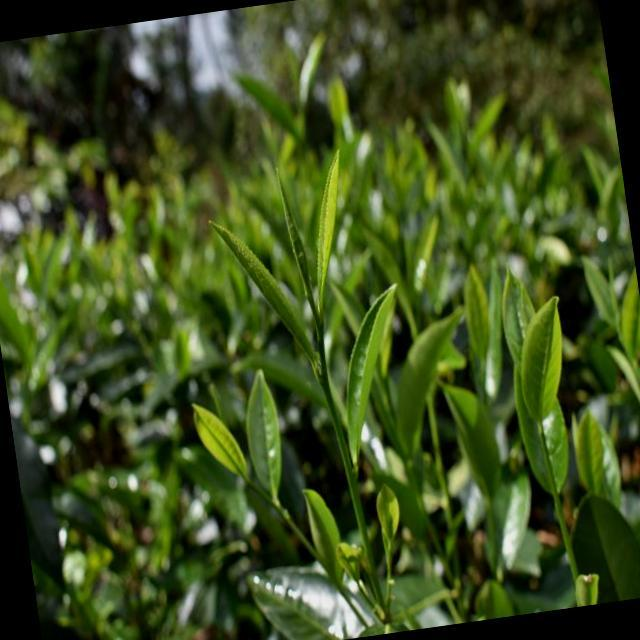Stem: (279, 506, 286, 516), (319, 376, 326, 386)
